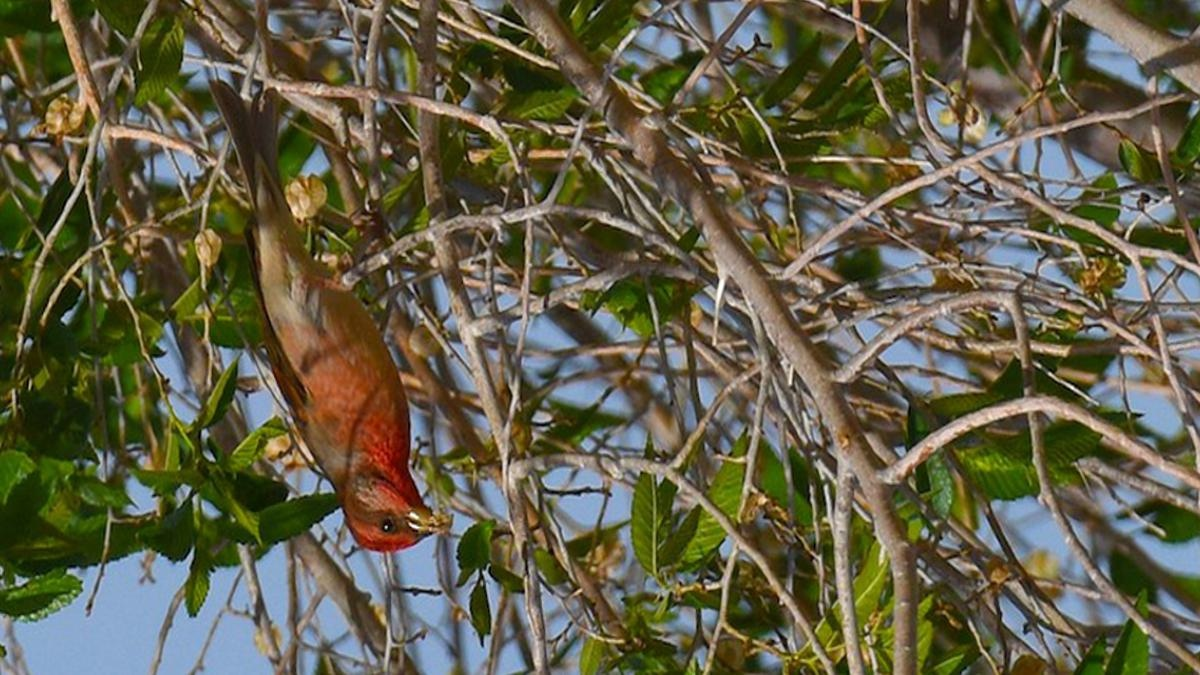rosefinch: (219, 172, 465, 542)
